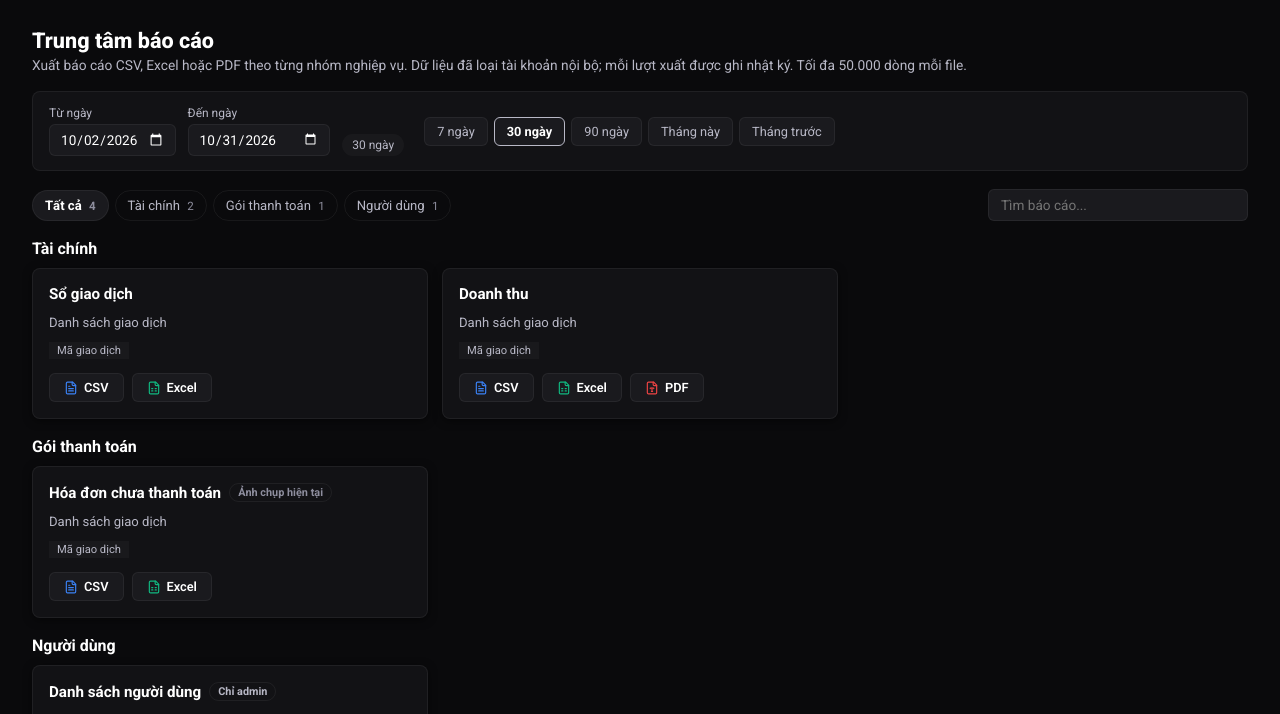
Test: AdminReports › disables the date range when only snapshot reports are visible
Expected: the heading "Tài chính" is shown, [32,239,97,258]
Expected: the date field labelled "Từ ngày" is enabled, [49,124,176,156]
Click the tab "Gói thanh toán 1" at (275, 205), box [213,190,338,220]
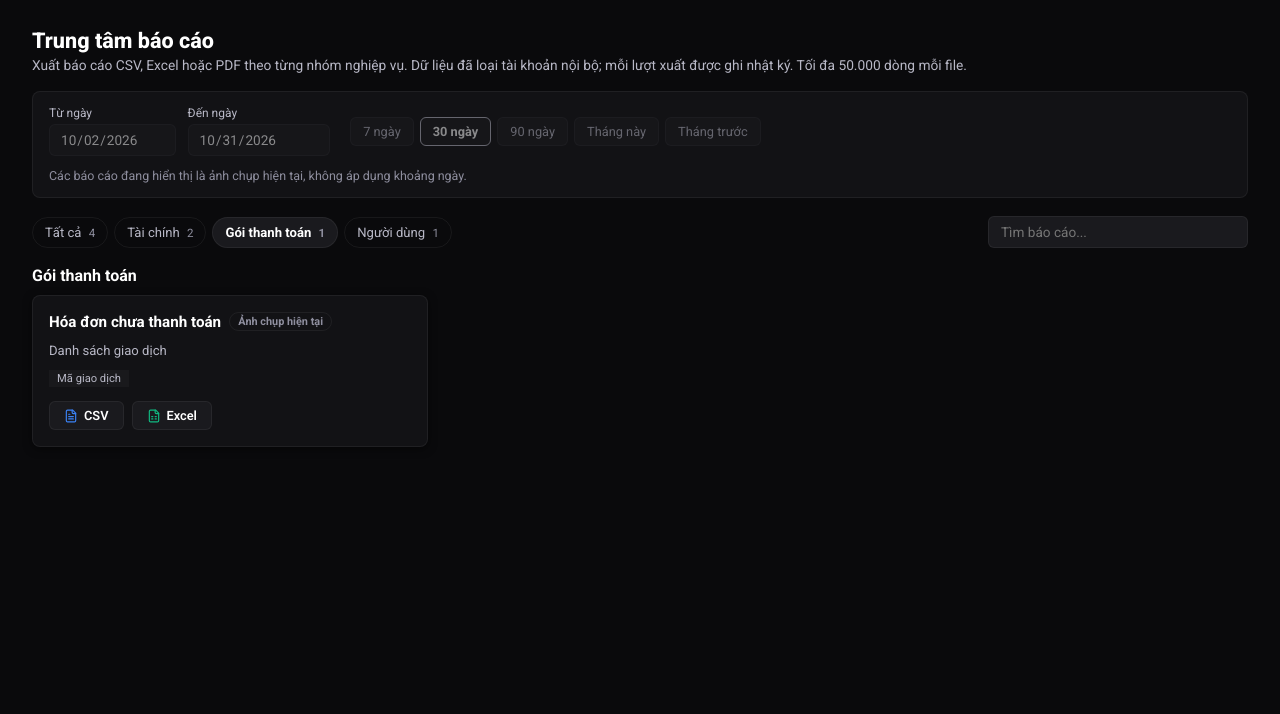
Expected: the date field labelled "Từ ngày" is disabled, [49,124,176,156]
Expected: the button "7 ngày" is disabled, [350,116,414,146]
